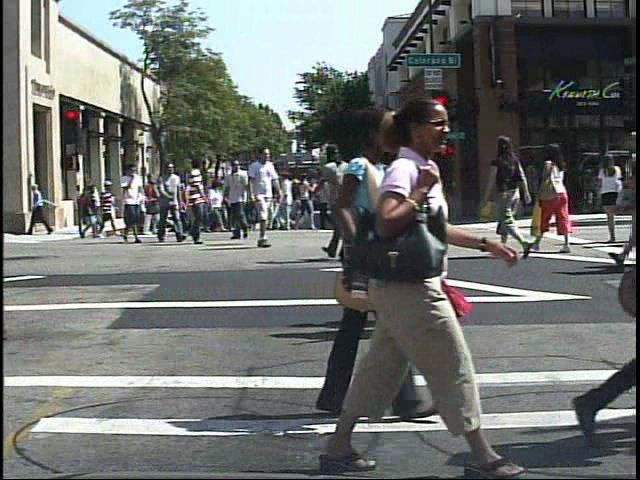person: (293, 86, 499, 480), (368, 134, 479, 340), (414, 127, 471, 339), (315, 134, 368, 267), (349, 144, 400, 263), (489, 134, 535, 255), (532, 138, 576, 259), (242, 144, 278, 252), (173, 154, 212, 247), (154, 157, 187, 247), (116, 159, 147, 245), (597, 149, 622, 243), (94, 177, 119, 241), (77, 182, 97, 232)
